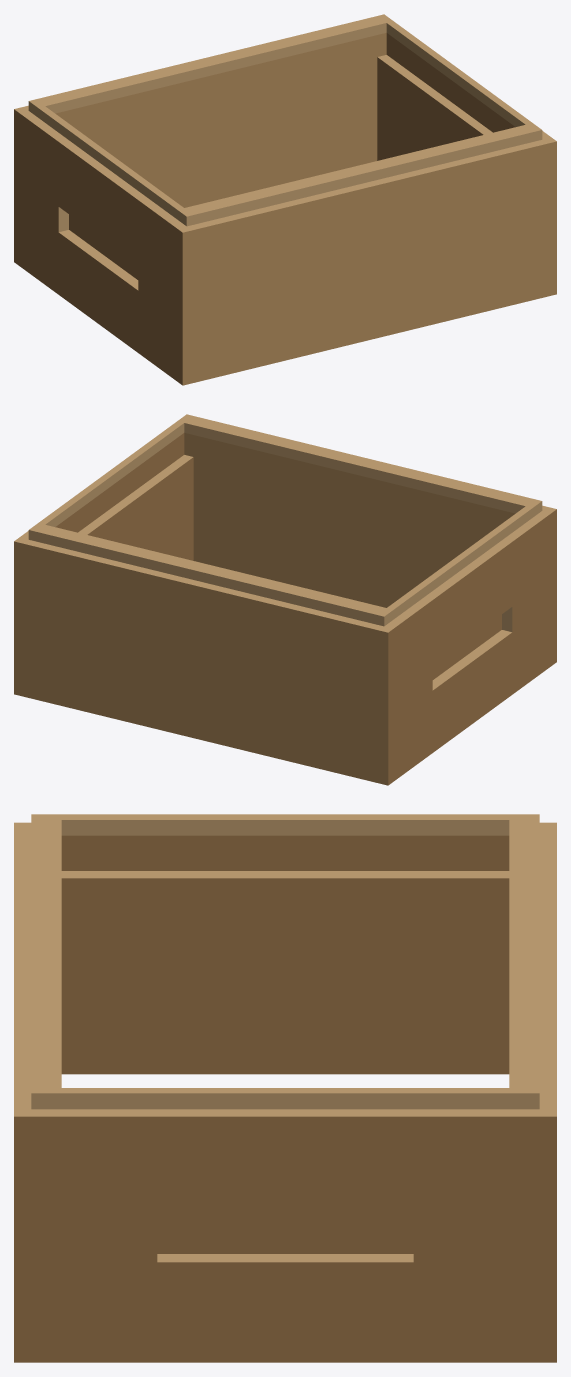
3 views of the same model, one above another, from view 1: azimuth 30°, elevation 25°; view 2: azimuth 150°, elevation 25°; view 3: azimuth 270°, elevation 25° (orthographic). The views are drawn at different scales.
Visible parts, largest first — view 1: ContinuousOpenRebatedHiveSuper; view 2: ContinuousOpenRebatedHiveSuper; view 3: ContinuousOpenRebatedHiveSuper.
Boxes of the visible parts, box(x1,y1,x2,y2) form: ContinuousOpenRebatedHiveSuper: box(14, 14, 556, 385); ContinuousOpenRebatedHiveSuper: box(14, 414, 556, 785); ContinuousOpenRebatedHiveSuper: box(14, 814, 556, 1362).
Size of the model in its own units: 0.64 by 0.266 by 0.5.
